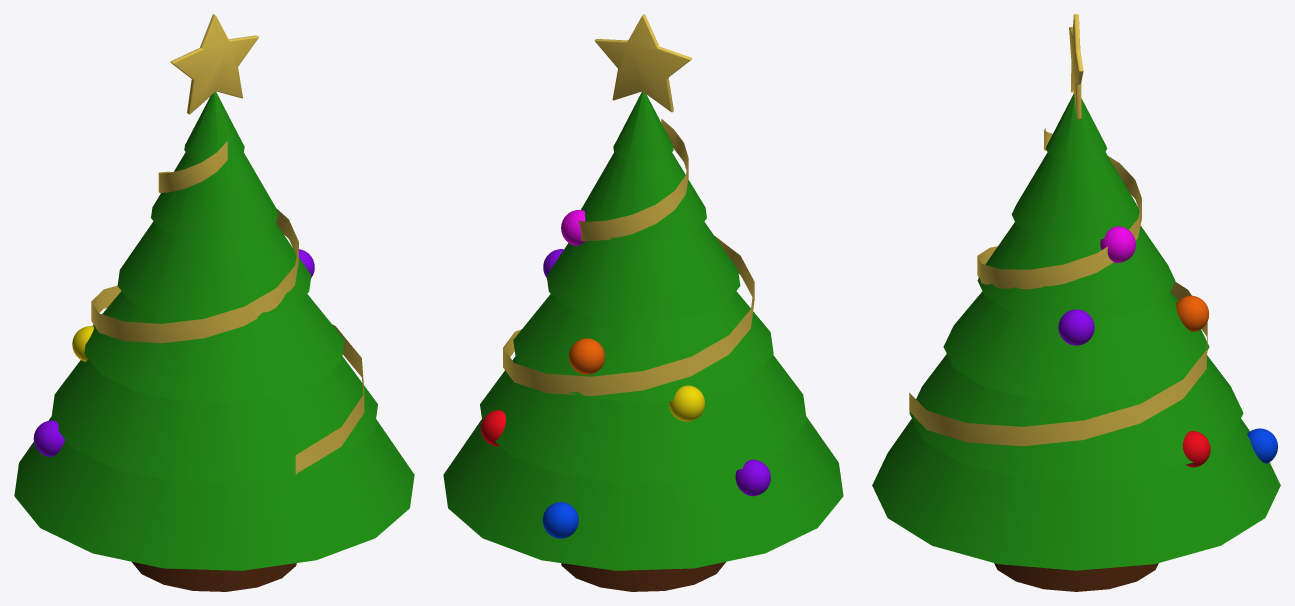
File: Christmas Tree.fbx
The picture shows the model from 3 angles, left to right: view 1: azimuth 30°, elevation 25°; view 2: azimuth 150°, elevation 25°; view 3: azimuth 270°, elevation 25°; orthographic projection.
Visible parts, largest first — view 1: Cylinder, Cylinder.001, Circle, Sphere.006; view 2: Cylinder, Cylinder.001, Circle, Sphere.005, Sphere.004, Sphere.006, Sphere.001, Sphere.002, Sphere.003; view 3: Cylinder, Cylinder.001, Sphere, Circle, Sphere.003, Sphere.005, Sphere.002, Sphere.004.
Part boxes in pixels (x1,y1,x2,y2): Cylinder: (14, 92, 414, 591); Cylinder.001: (91, 141, 364, 474); Circle: (170, 14, 258, 114); Sphere.006: (33, 420, 64, 456); Cylinder: (443, 91, 843, 591); Cylinder.001: (503, 119, 754, 396); Circle: (594, 14, 691, 112); Sphere.005: (569, 338, 604, 374); Sphere.004: (542, 502, 578, 538); Sphere.006: (735, 459, 770, 496); Sphere.001: (669, 385, 704, 421); Sphere.002: (481, 410, 505, 446); Sphere.003: (561, 209, 585, 245); Cylinder: (872, 93, 1280, 591); Cylinder.001: (909, 128, 1207, 446); Sphere: (1058, 309, 1094, 345); Circle: (1069, 14, 1083, 119); Sphere.003: (1100, 226, 1135, 262); Sphere.005: (1176, 295, 1208, 331); Sphere.002: (1182, 431, 1210, 467); Sphere.004: (1247, 428, 1277, 463).
Bounding box in the file's own units: 367 × 545 × 372.
